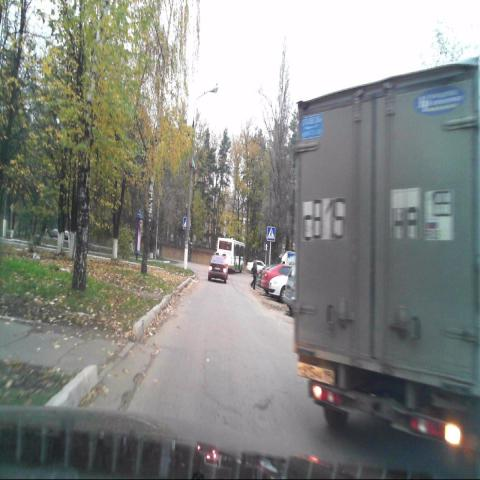5_19_1: (267, 225, 275, 241)
